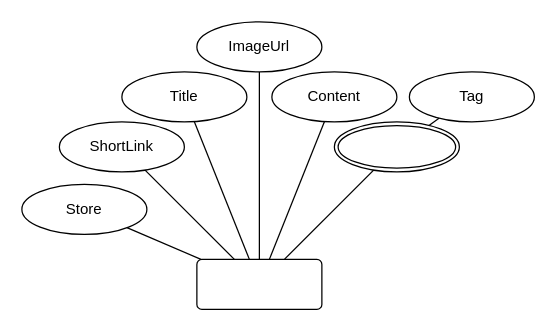
Some shapes in this 556 by 331 pixel diagram are drawn without their labels. Each missing label, with the centre of its shape:
"Blog" goes at pixel 259 283.
"Tagged" goes at pixel 396 146.
